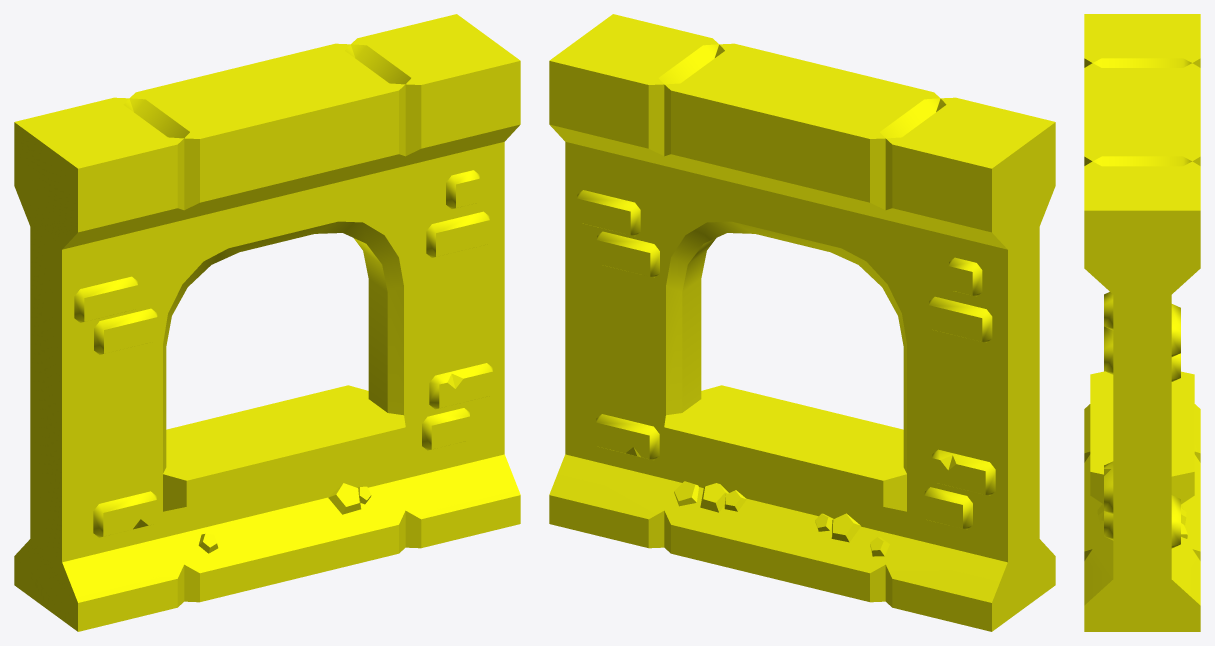
Rendered from kaykit-wall-archedwindow-open.glb.
3 views of the same model, side by side, from view 1: azimuth 30°, elevation 25°; view 2: azimuth 150°, elevation 25°; view 3: azimuth 270°, elevation 25° (orthographic). The views are drawn at different scales.
Parts seen in each view (by area): view 1: wall_archedwindow_open; view 2: wall_archedwindow_open; view 3: wall_archedwindow_open.
Part boxes in pixels (bbox=[...]): wall_archedwindow_open: bbox=[14, 14, 520, 631]; wall_archedwindow_open: bbox=[549, 14, 1055, 631]; wall_archedwindow_open: bbox=[1084, 14, 1200, 631].
Size of the model in its own units: 4 by 4 by 1.
